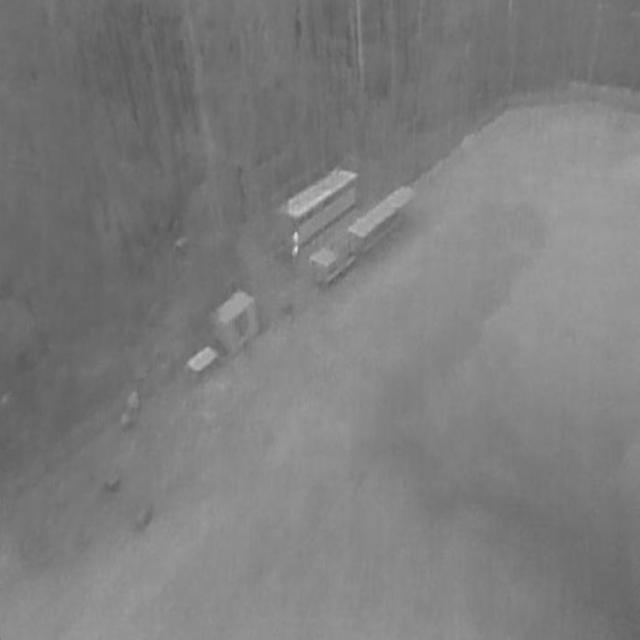person: (292, 232, 300, 258)
